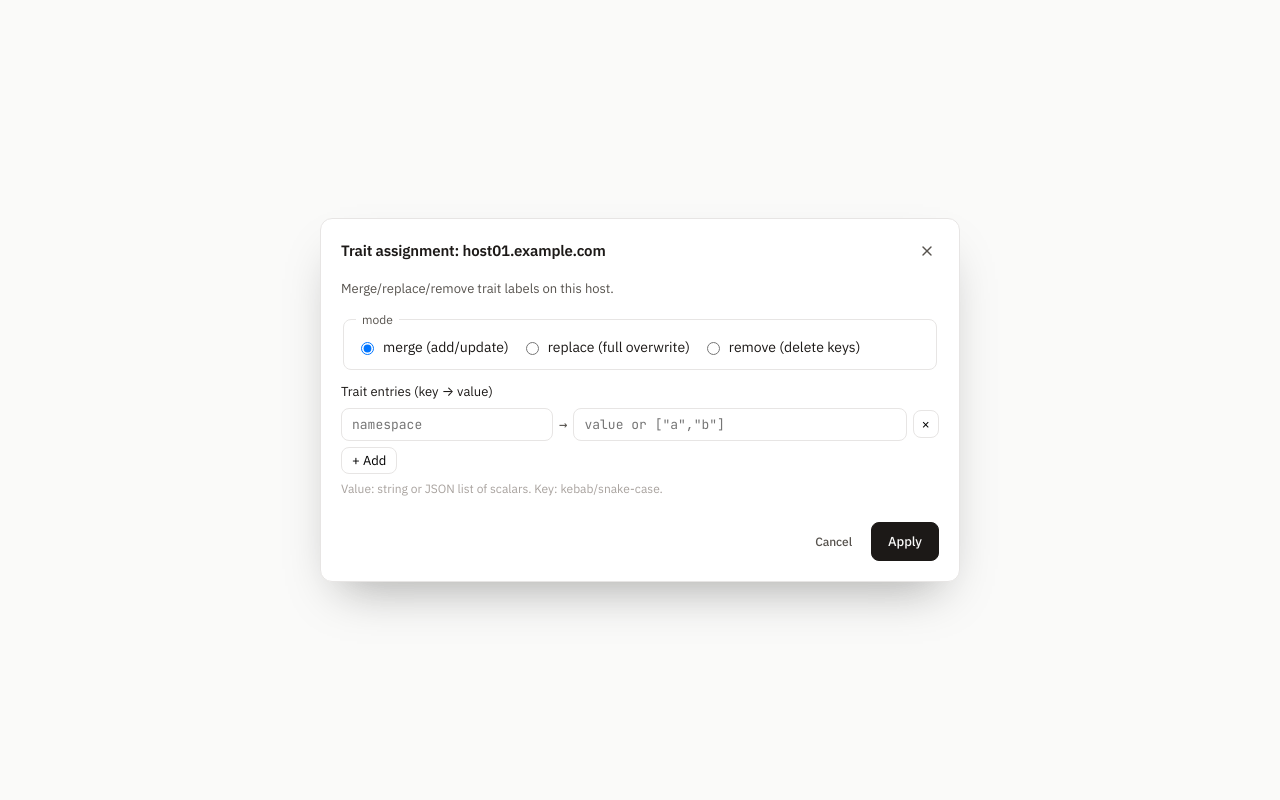
it: TraitsAssignModal › switches to remove mode and shows the keys field
The image size is (1280, 800).
Click the radio button with test id "trait-mode-remove".
click(713, 349)  # box [707,342,720,355]
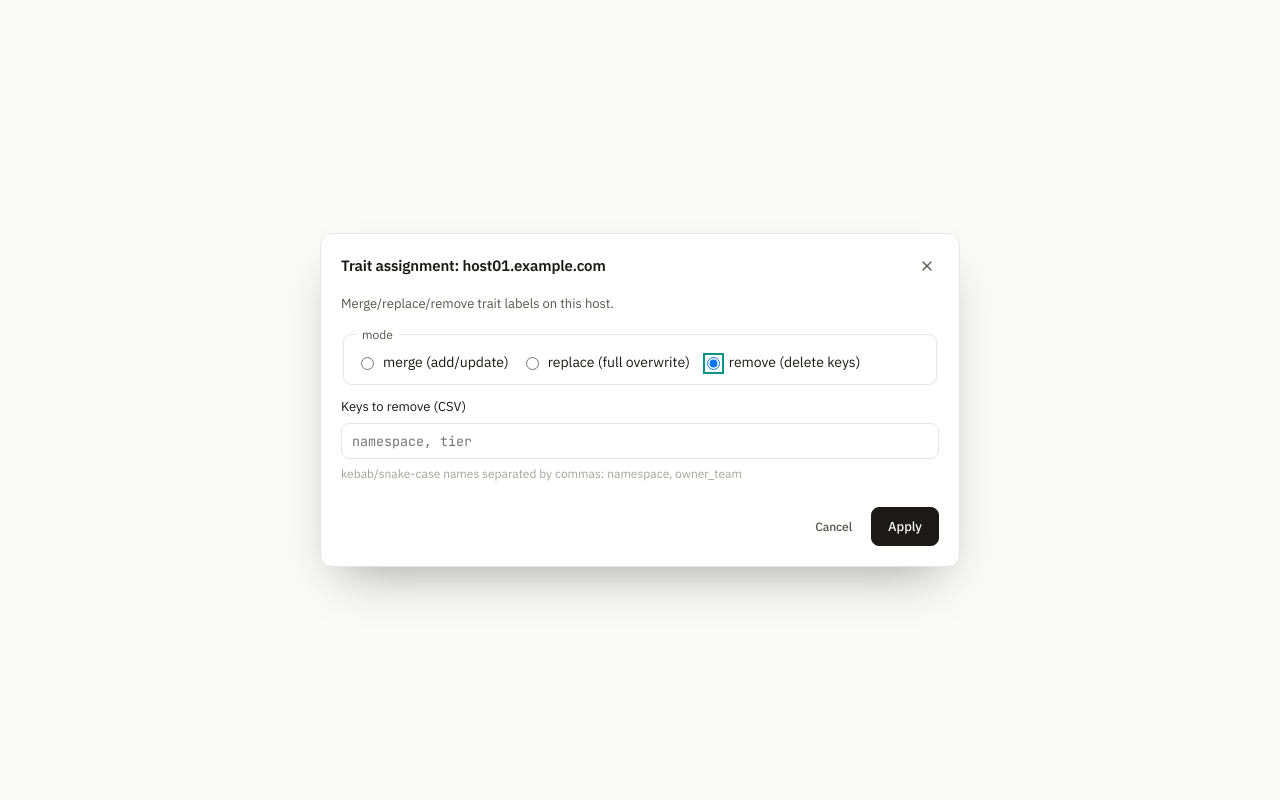
Check: the field with test id "trait-remove-keys" is shown, box [341,423,939,459]
